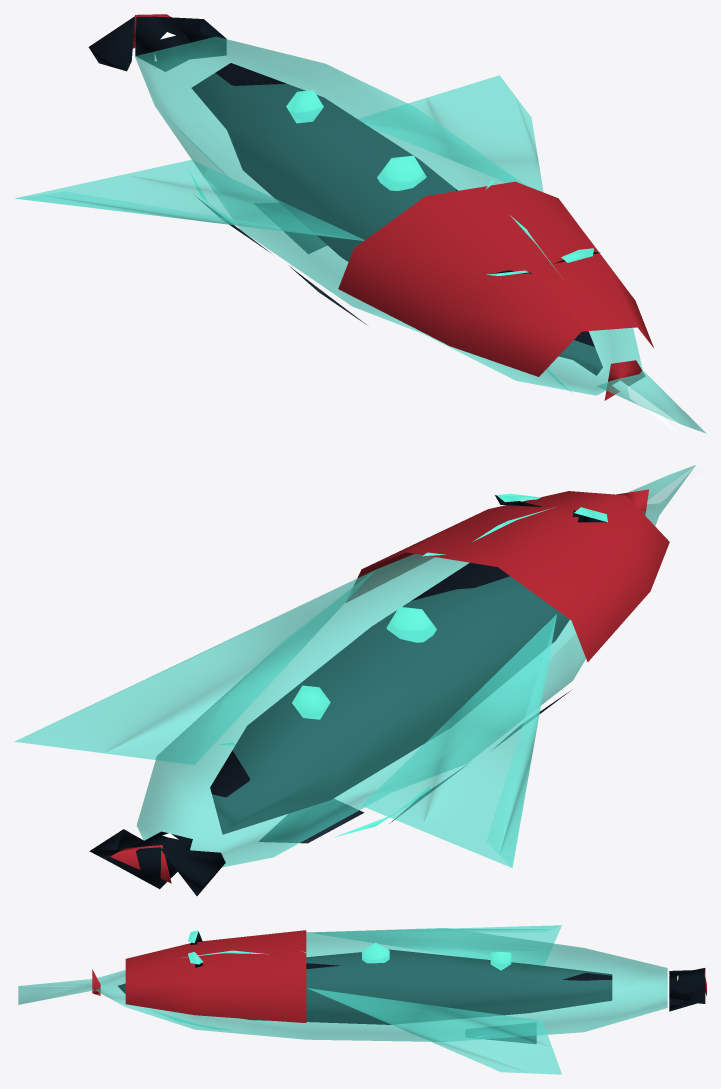
Rendered from refleks-swietlisci-hawk-5-lod2.glb.
The picture shows the model from 3 angles, top to bottom: view 1: azimuth 30°, elevation 25°; view 2: azimuth 150°, elevation 25°; view 3: azimuth 270°, elevation 25°; orthographic projection. The views are drawn at different scales.
Size of the model in its own units: 8.91 by 2.63 by 17.11.
